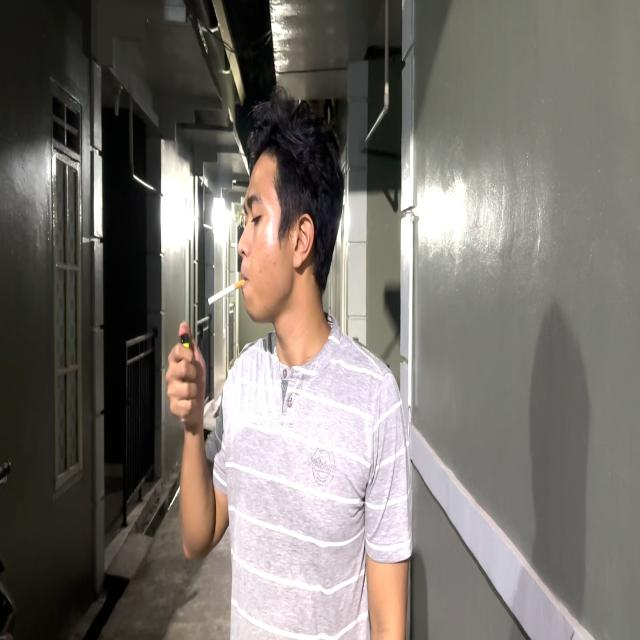cigarette: (207, 279, 243, 307)
smoking: (168, 108, 346, 562)
